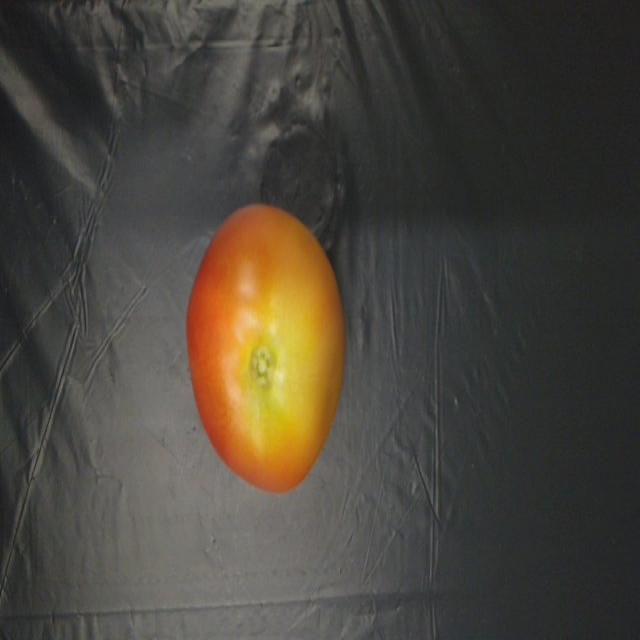sari: (184, 196, 354, 505)
